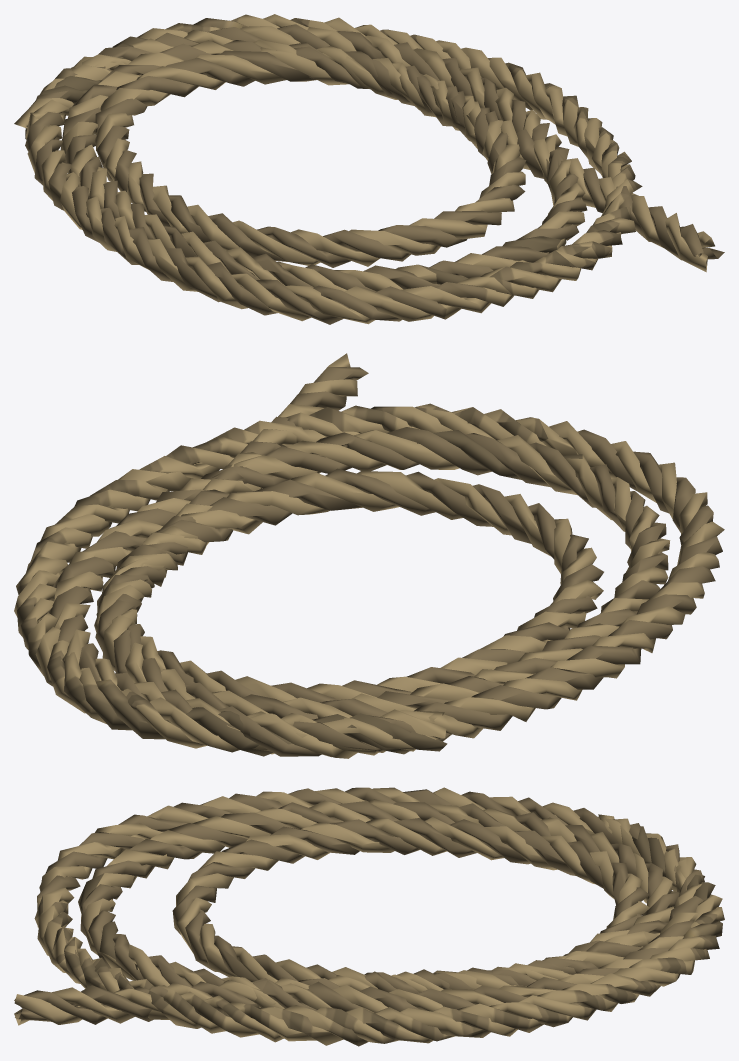
Rendered from lasso.fbx.
The picture shows the model from 3 angles, top to bottom: view 1: azimuth 30°, elevation 25°; view 2: azimuth 150°, elevation 25°; view 3: azimuth 270°, elevation 25°; orthographic projection. The views are drawn at different scales.
Visible parts, largest first — view 1: LassoLow; view 2: LassoLow; view 3: LassoLow.
Part boxes in pixels (x1,y1,x2,y2): LassoLow: (14,14,724,324); LassoLow: (14,353,724,758); LassoLow: (14,787,724,1046).
Bounding box in the file's own units: 326 × 24.09 × 414.
